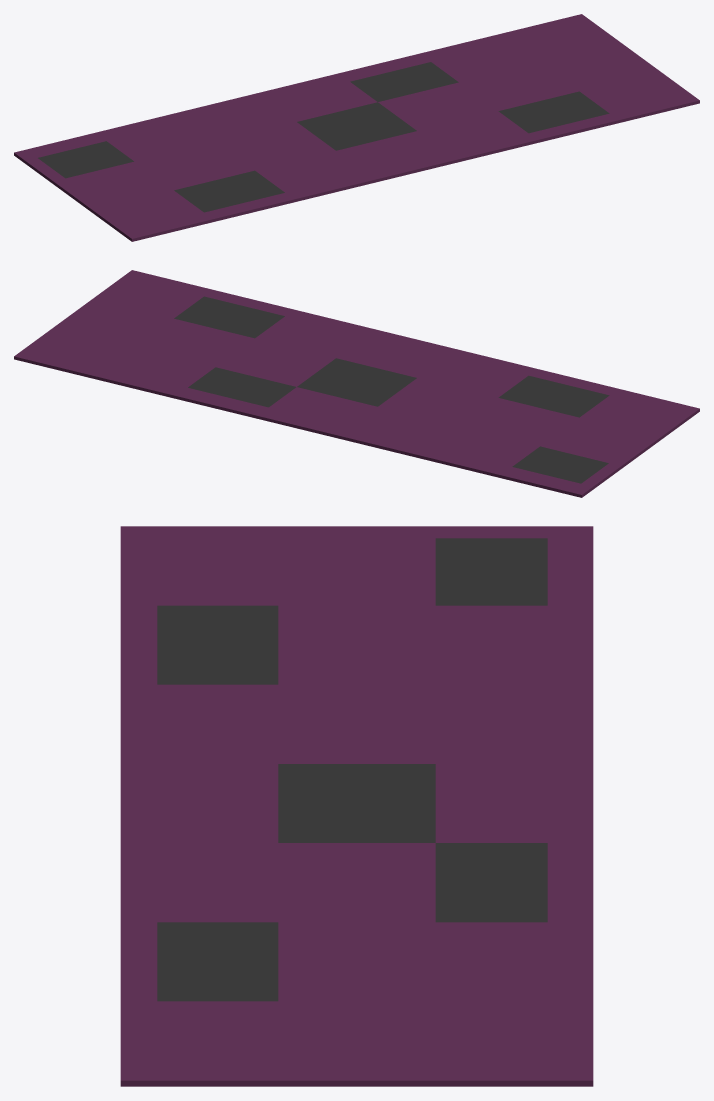
The model's file is rugLong.fbx.
3 views of the same model, one above another, from view 1: azimuth 30°, elevation 25°; view 2: azimuth 150°, elevation 25°; view 3: azimuth 270°, elevation 25° (orthographic). The views are drawn at different scales.
Parts seen in each view (by area): view 1: Rug - Long; view 2: Rug - Long; view 3: Rug - Long.
Boxes of the visible parts, x1=… form: Rug - Long: x1=14, y1=14, x2=699, y2=241; Rug - Long: x1=14, y1=270, x2=699, y2=497; Rug - Long: x1=120, y1=526, x2=593, y2=1086.
Size of the model in its own units: 200 by 72.04 by 1.
